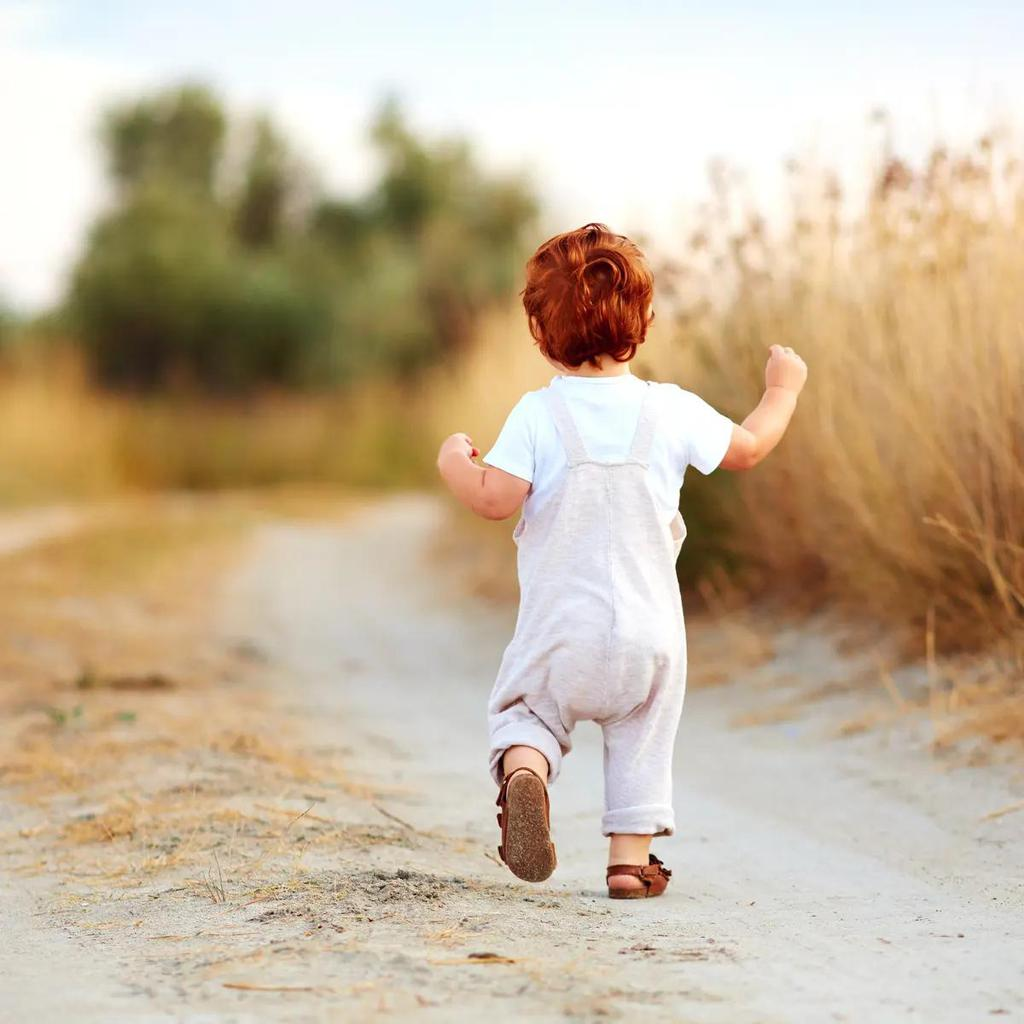child: (409, 204, 824, 907)
